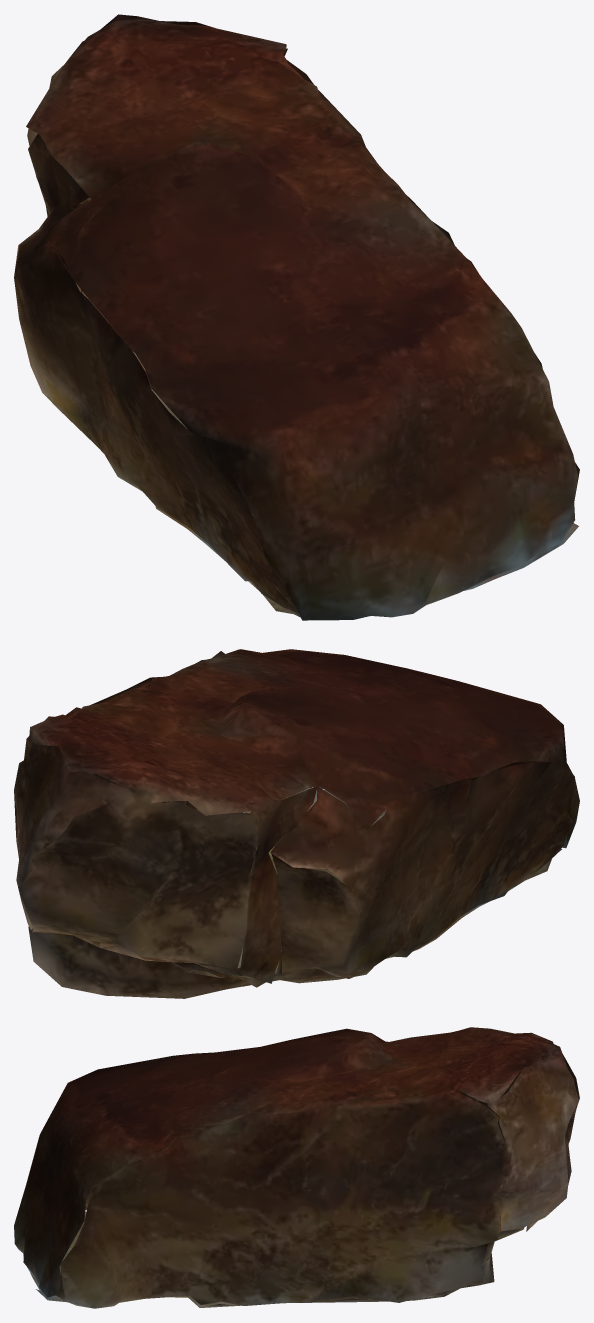
The model's file is ph_rock_07.glb.
The picture shows the model from 3 angles, top to bottom: view 1: azimuth 30°, elevation 25°; view 2: azimuth 150°, elevation 25°; view 3: azimuth 270°, elevation 25°; orthographic projection. The views are drawn at different scales.
Visible parts, largest first — view 1: rock_07; view 2: rock_07; view 3: rock_07.
Boxes of the visible parts, <box> form: rock_07: <box>14,14,579,620</box>; rock_07: <box>14,649,579,998</box>; rock_07: <box>14,1027,579,1308</box>.
Bounding box in the file's own units: 0.1697 × 0.1432 × 0.321.
1 material, 1 textured.
